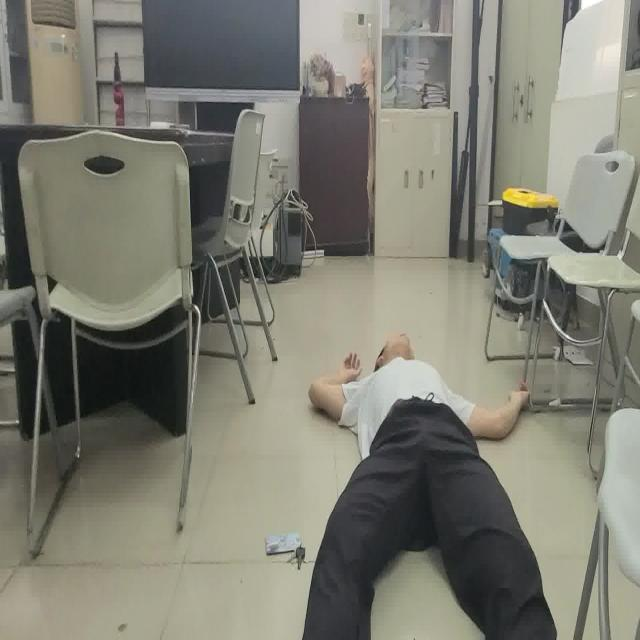Fall-Detected: (305, 332, 557, 640)
